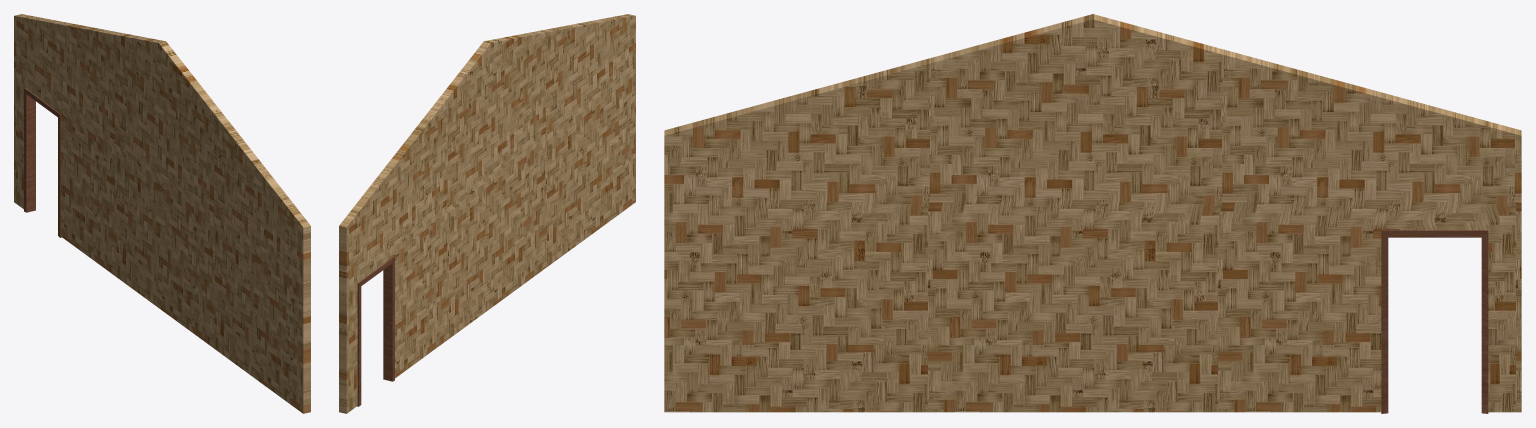
The model's file is R2_Kanan.fbx.
3 views of the same model, side by side, from view 1: azimuth 30°, elevation 25°; view 2: azimuth 150°, elevation 25°; view 3: azimuth 270°, elevation 25° (orthographic). The views are drawn at different scales.
Parts seen in each view (by area): view 1: Cube.179; view 2: Cube.179; view 3: Cube.179.
Part boxes in pixels (left/top/right/bottom): Cube.179: left=14, top=14, right=310, bottom=413; Cube.179: left=339, top=14, right=635, bottom=413; Cube.179: left=664, top=14, right=1521, bottom=413.
Size of the model in its own units: 0.3864 by 10.24 by 20.2.
2 materials, 2 textured.
